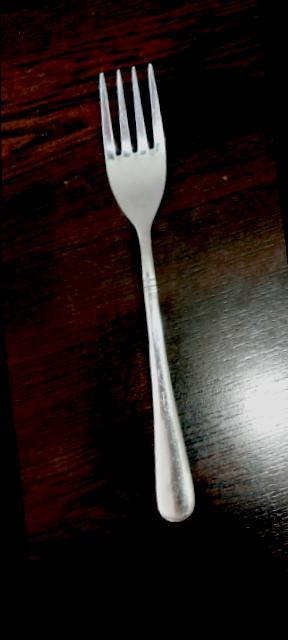Fork: (100, 65, 194, 521)
